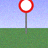sign: (19, 0, 34, 36)
